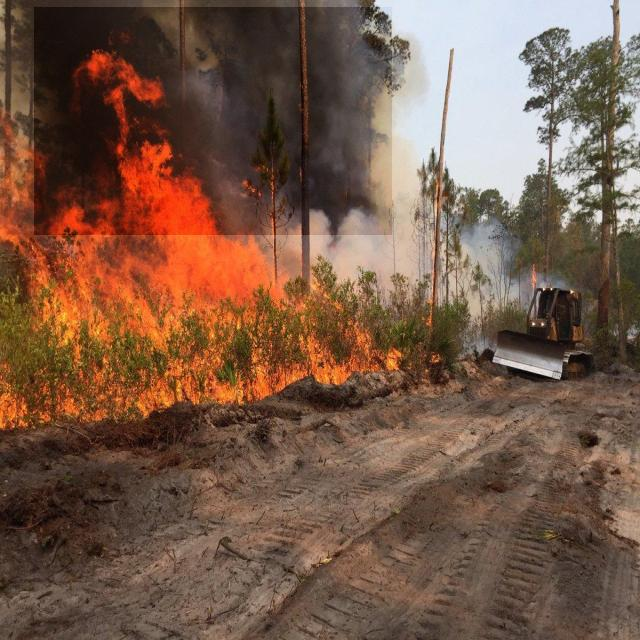Fire: (0, 71, 404, 375)
Smoke: (34, 7, 392, 235)
